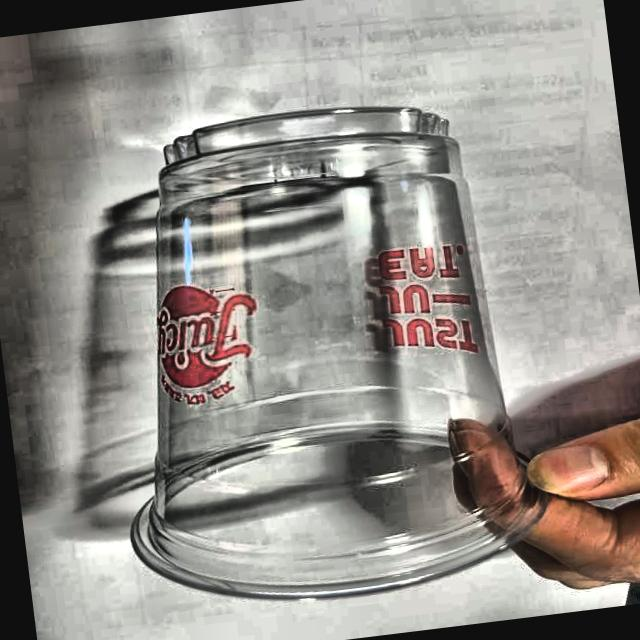plastic cup: (78, 83, 565, 628)
